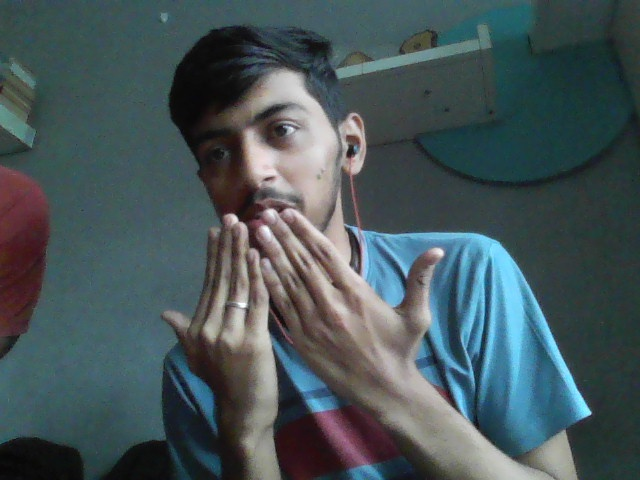Thank You: (170, 202, 446, 416)
